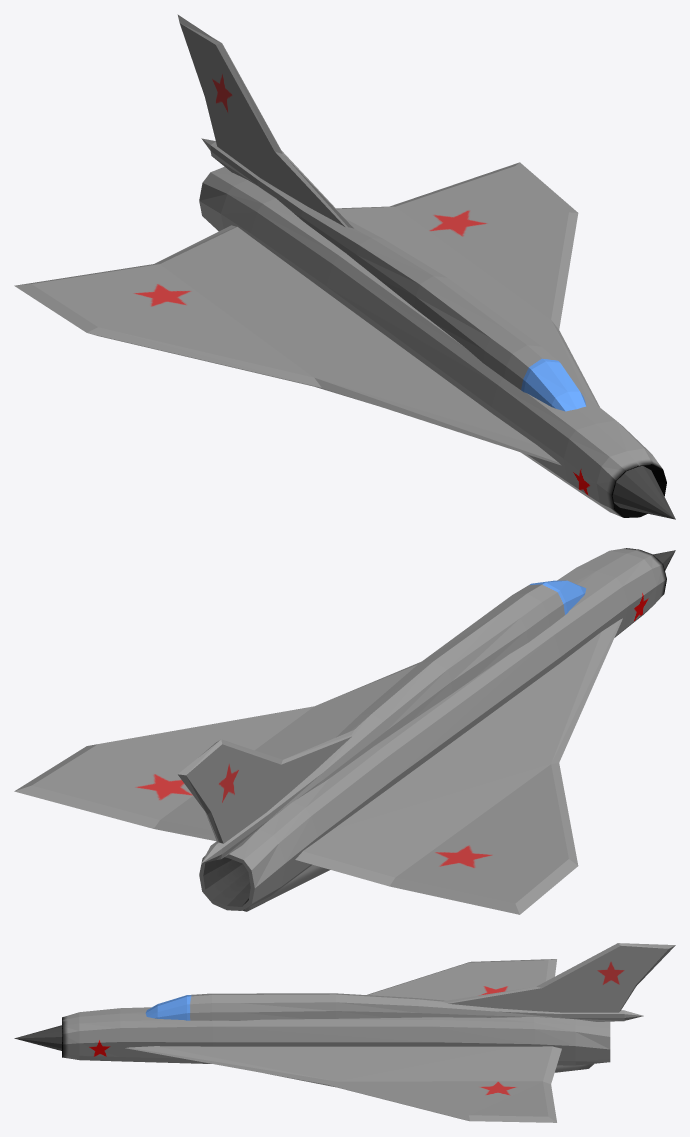
Rendered from MIG-212A.fbx.
3 views of the same model, one above another, from view 1: azimuth 30°, elevation 25°; view 2: azimuth 150°, elevation 25°; view 3: azimuth 270°, elevation 25° (orthographic). The views are drawn at different scales.
Parts seen in each view (by area): view 1: Plane; view 2: Plane; view 3: Plane.
Part boxes in pixels (<box>): Plane: <box>14,14,675,519</box>; Plane: <box>14,548,675,914</box>; Plane: <box>14,943,675,1122</box>.
Bounding box in the file's own units: 516 × 202 × 880.
1 material, 1 textured.
